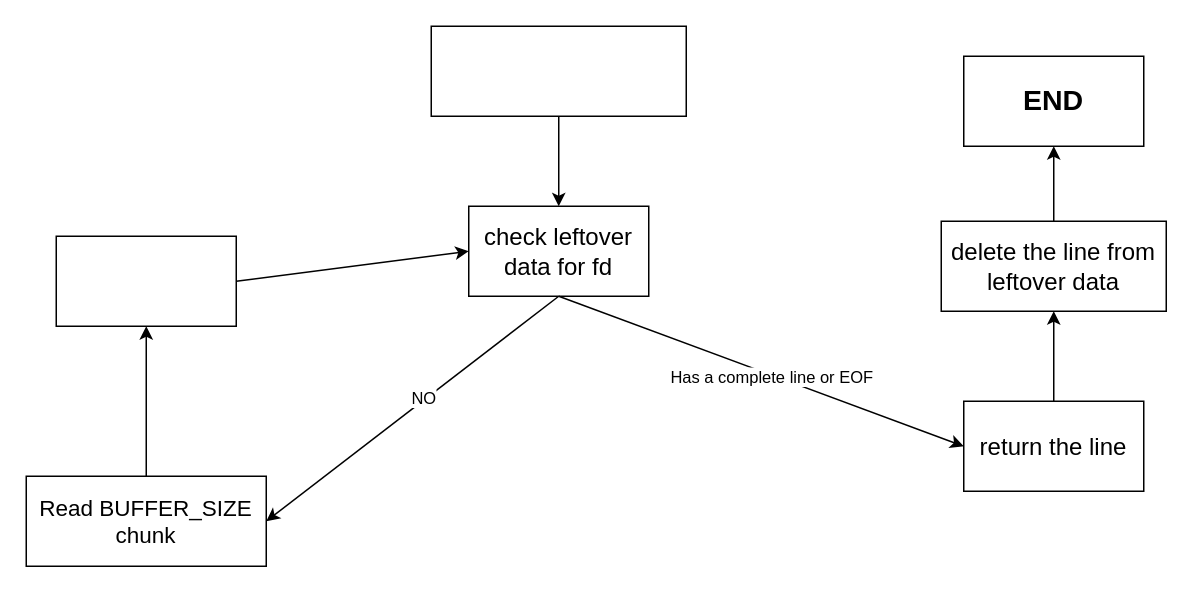
Image size: 1193x593. Some labels were removed from this diagram. The centre of each missing label's shape, as x and y in pixels:
"Add data to leftover" belongs at (x=145, y=280).
"get_next_line(fd) call" belongs at (x=558, y=70).
